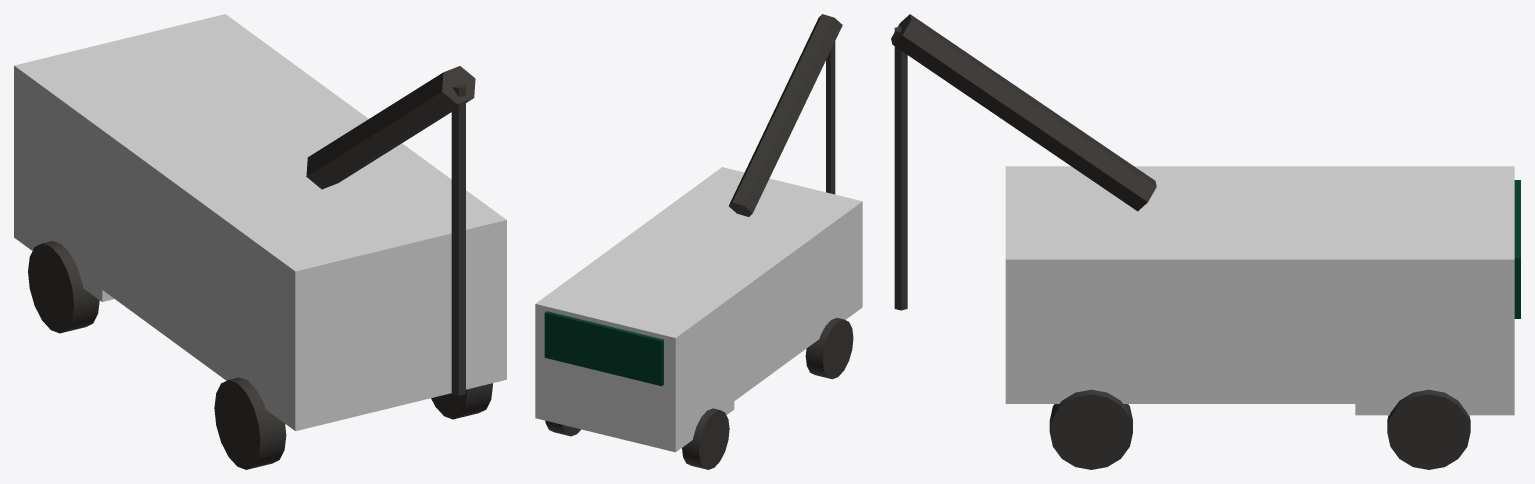
File: R6_recovery_truck_on_call.glb
3 renders of one model, left to right at view 1: azimuth 30°, elevation 25°; view 2: azimuth 150°, elevation 25°; view 3: azimuth 270°, elevation 25°, orthographic. The views are drawn at different scales.
Parts seen in each view (by area): view 1: instance_white, instance_ink, recovery-boom_ink, winch_ink; view 2: instance_white, instance_darkgreen, recovery-boom_ink, instance_ink, winch_ink; view 3: instance_white, recovery-boom_ink, instance_ink, winch_ink, instance_darkgreen.
Boxes of the visible parts, box(x1,y1,x2,y2) form: instance_white: box(14, 14, 506, 431); instance_ink: box(28, 241, 492, 469); recovery-boom_ink: box(306, 66, 475, 189); winch_ink: box(451, 83, 465, 395); instance_white: box(535, 167, 862, 452); instance_darkgreen: box(544, 311, 663, 386); recovery-boom_ink: box(729, 14, 842, 216); instance_ink: box(545, 318, 853, 469); winch_ink: box(826, 41, 835, 194); instance_white: box(1005, 166, 1514, 415); recovery-boom_ink: box(891, 14, 1156, 211); instance_ink: box(1049, 389, 1470, 469); winch_ink: box(894, 26, 907, 310); instance_darkgreen: box(1514, 180, 1520, 318).
Size of the model in its own units: 1.98 by 3.61 by 5.13.
